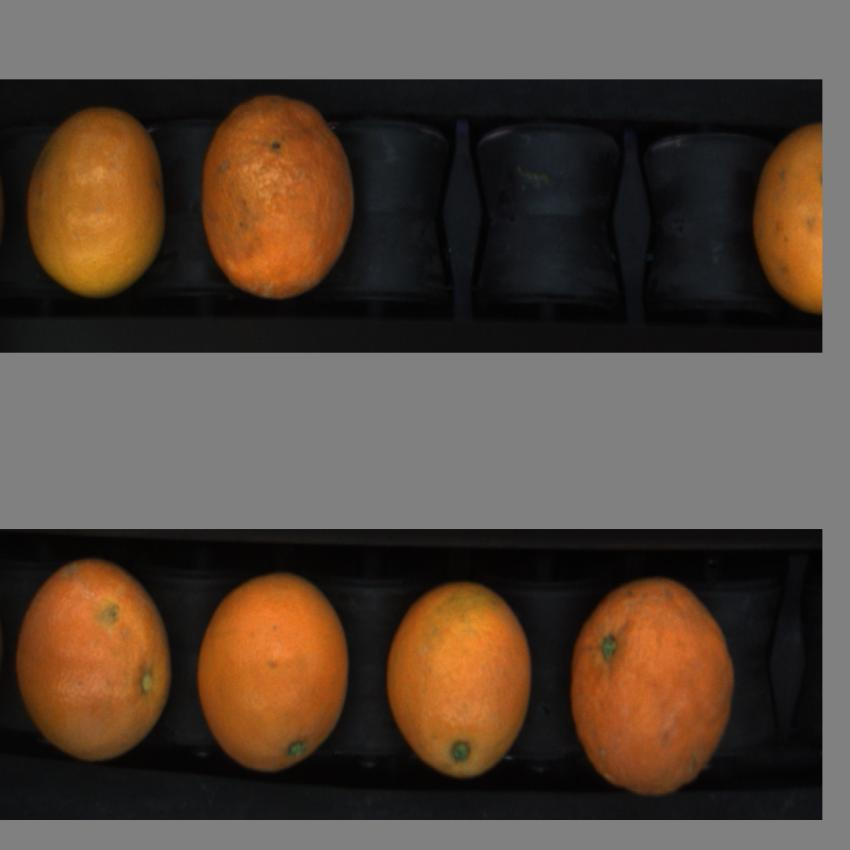Buen estado: (378, 572, 536, 802), (11, 557, 177, 773), (192, 564, 358, 778), (24, 106, 179, 302), (748, 113, 822, 340)
Mal estado: (561, 576, 747, 811), (198, 100, 359, 306)
